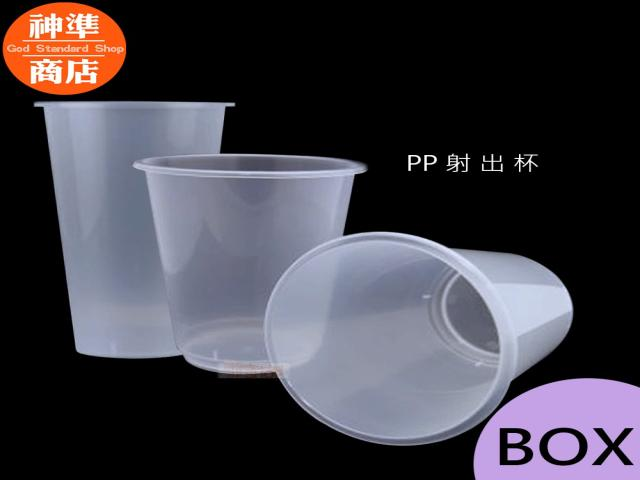cup: (264, 233, 572, 445), (35, 101, 234, 358), (134, 154, 366, 374)
